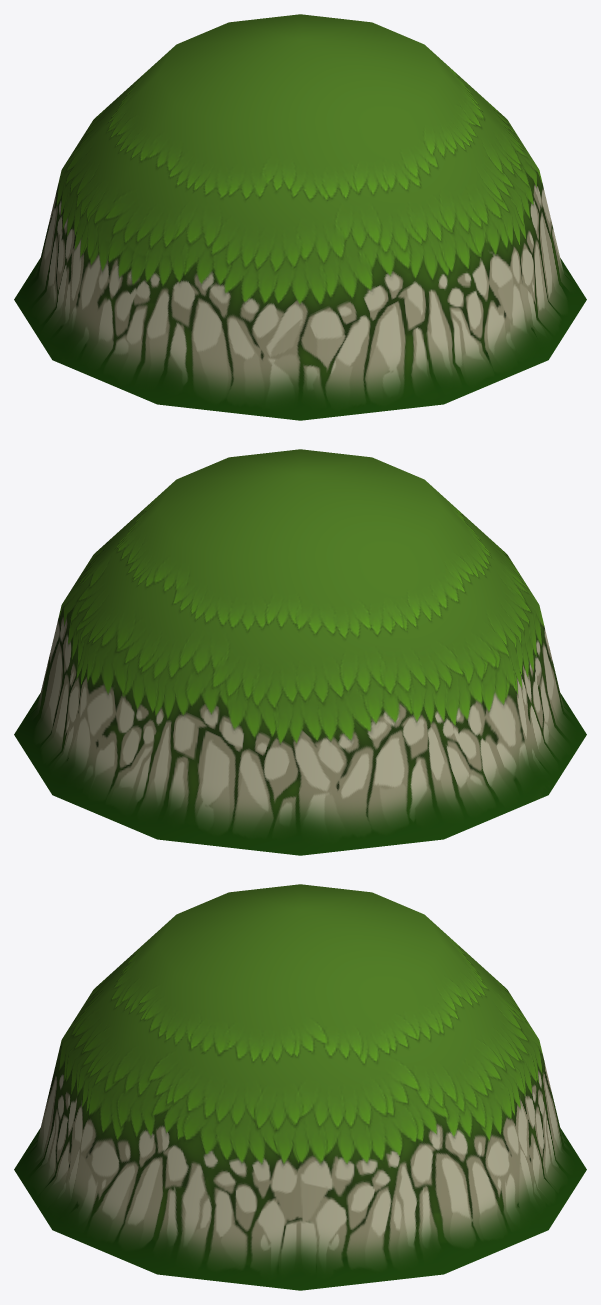
The model's file is Hill3.glb.
The picture shows the model from 3 angles, top to bottom: view 1: azimuth 30°, elevation 25°; view 2: azimuth 150°, elevation 25°; view 3: azimuth 270°, elevation 25°; orthographic projection.
Visible parts, largest first — view 1: Hill_03; view 2: Hill_03; view 3: Hill_03.
Part boxes in pixels (left/top/right/bottom): Hill_03: left=14, top=14, right=586, bottom=420; Hill_03: left=14, top=449, right=586, bottom=855; Hill_03: left=14, top=884, right=586, bottom=1290.
Bounding box in the file's own units: 178 × 88.87 × 178.
Materials: 1 (1 with a texture image).
